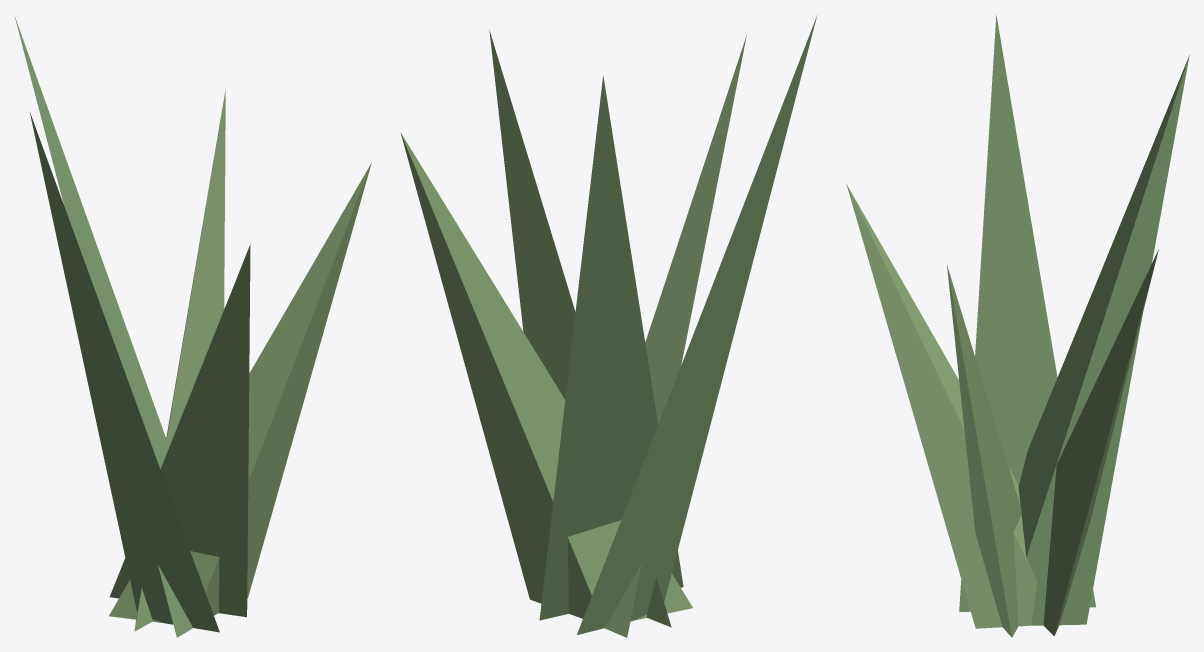
Rendered from grass.glb.
The picture shows the model from 3 angles, left to right: view 1: azimuth 30°, elevation 25°; view 2: azimuth 150°, elevation 25°; view 3: azimuth 270°, elevation 25°; orthographic projection. The views are drawn at different scales.
Parts seen in each view (by area): view 1: detail_blade1, detail_blade4, detail_blade2, detail_blade0, detail_blade3; view 2: detail_blade3, detail_blade0, detail_blade1, detail_blade2, detail_blade4; view 3: detail_blade3, detail_blade1, detail_blade4, detail_blade0, detail_blade2.
Boxes of the visible parts, <box> form: detail_blade1: <box>29,112,219,632</box>; detail_blade4: <box>110,244,250,617</box>; detail_blade2: <box>109,163,371,623</box>; detail_blade0: <box>134,90,225,631</box>; detail_blade3: <box>14,16,192,637</box>; detail_blade3: <box>539,76,683,620</box>; detail_blade0: <box>400,132,692,620</box>; detail_blade1: <box>577,15,817,634</box>; detail_blade2: <box>489,30,671,627</box>; detail_blade4: <box>581,35,746,637</box>; detail_blade3: <box>1018,55,1189,625</box>; detail_blade1: <box>959,15,1095,611</box>; detail_blade4: <box>846,184,1037,628</box>; detail_blade0: <box>1043,249,1158,636</box>; detail_blade2: <box>947,265,1021,637</box>.
Size of the model in its own units: 0.1506 by 0.25 by 0.1499.
